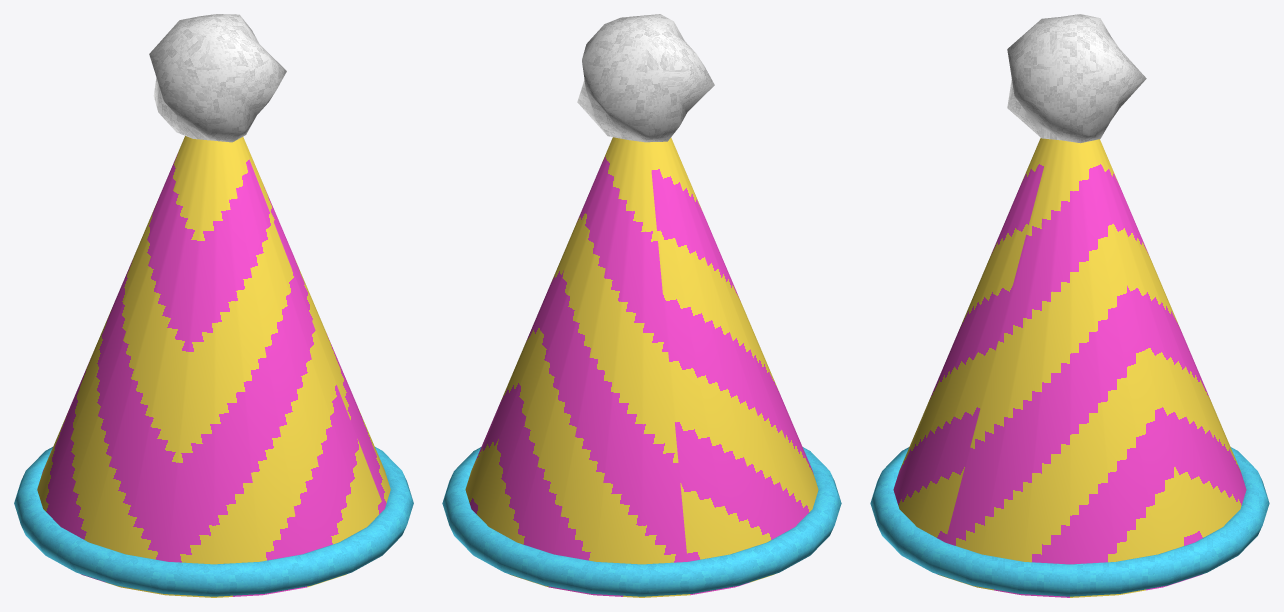
File: x_hat_party.glb
3 views of the same model, side by side, from view 1: azimuth 30°, elevation 25°; view 2: azimuth 150°, elevation 25°; view 3: azimuth 270°, elevation 25° (orthographic).
Visible parts, largest first — view 1: hat_body.004, hat_trim; view 2: hat_body.004, hat_trim; view 3: hat_body.004, hat_trim.
Boxes of the visible parts, left/top/right/bottom form: hat_body.004: left=37, top=136, right=390, bottom=597; hat_trim: left=14, top=14, right=413, bottom=596; hat_body.004: left=465, top=137, right=818, bottom=597; hat_trim: left=442, top=14, right=841, bottom=596; hat_body.004: left=893, top=138, right=1246, bottom=597; hat_trim: left=870, top=14, right=1269, bottom=596.
Bounding box in the file's own units: 0.92 × 1.27 × 0.92.
Materials: 3 (3 with a texture image).
